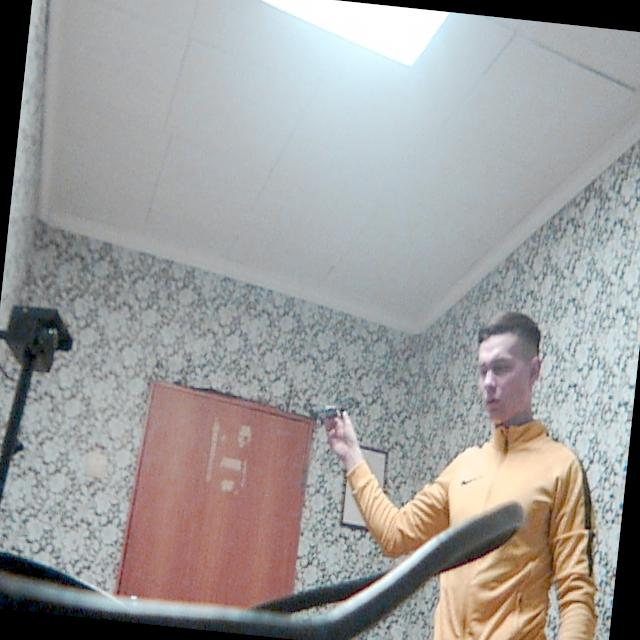drone: (294, 379, 370, 440)
